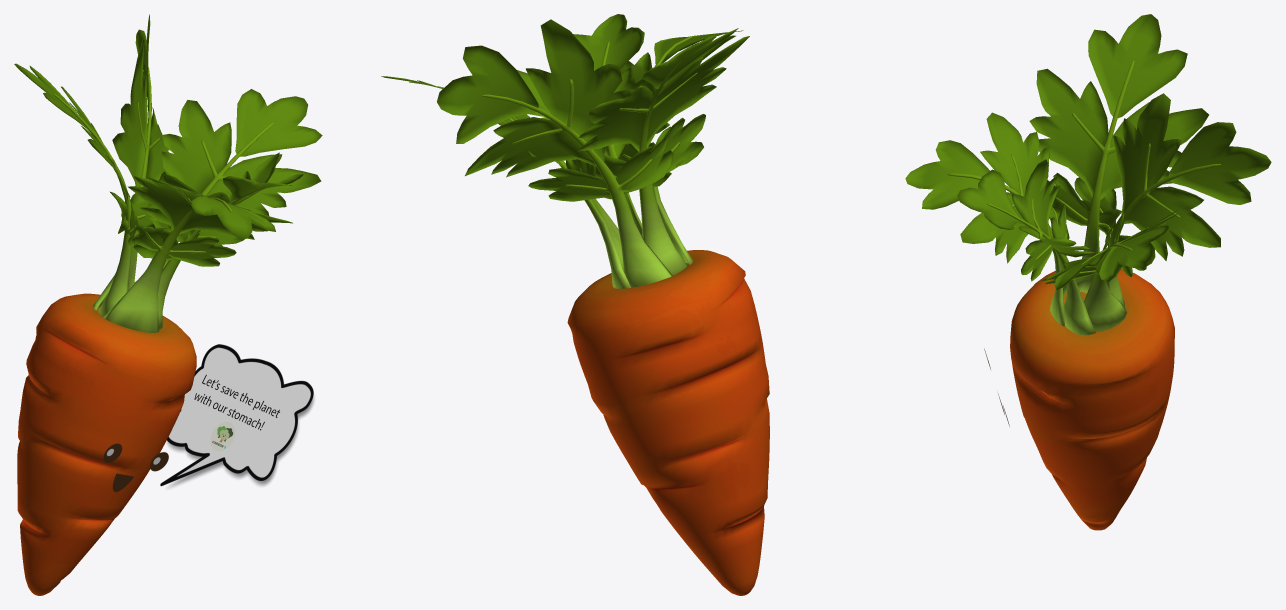
Rendered from carrot180.glb.
3 renders of one model, left to right at view 1: azimuth 30°, elevation 25°; view 2: azimuth 150°, elevation 25°; view 3: azimuth 270°, elevation 25°, orthographic. The views are drawn at different scales.
Parts seen in each view (by area): view 1: carrot, carrot_leaves, Quad (1), Quad; view 2: carrot, carrot_leaves; view 3: carrot_leaves, carrot.
Part boxes in pixels (x1,y1,x2,y2): carrot: (17,293,196,595); carrot_leaves: (14,14,322,332); Quad (1): (160,344,313,486); Quad: (103,443,168,492); carrot: (567,250,769,595); carrot_leaves: (381,14,749,288); carrot_leaves: (905,14,1271,335); carrot: (1010,268,1174,530).
Size of the model in its own units: 0.5611 by 0.764 by 0.4916.
4 materials, 4 textured.
